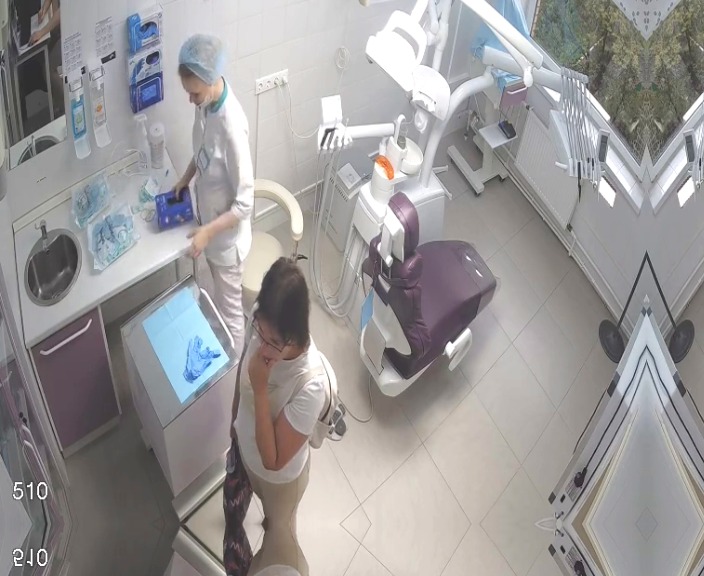Empty: (355, 193, 502, 400)
